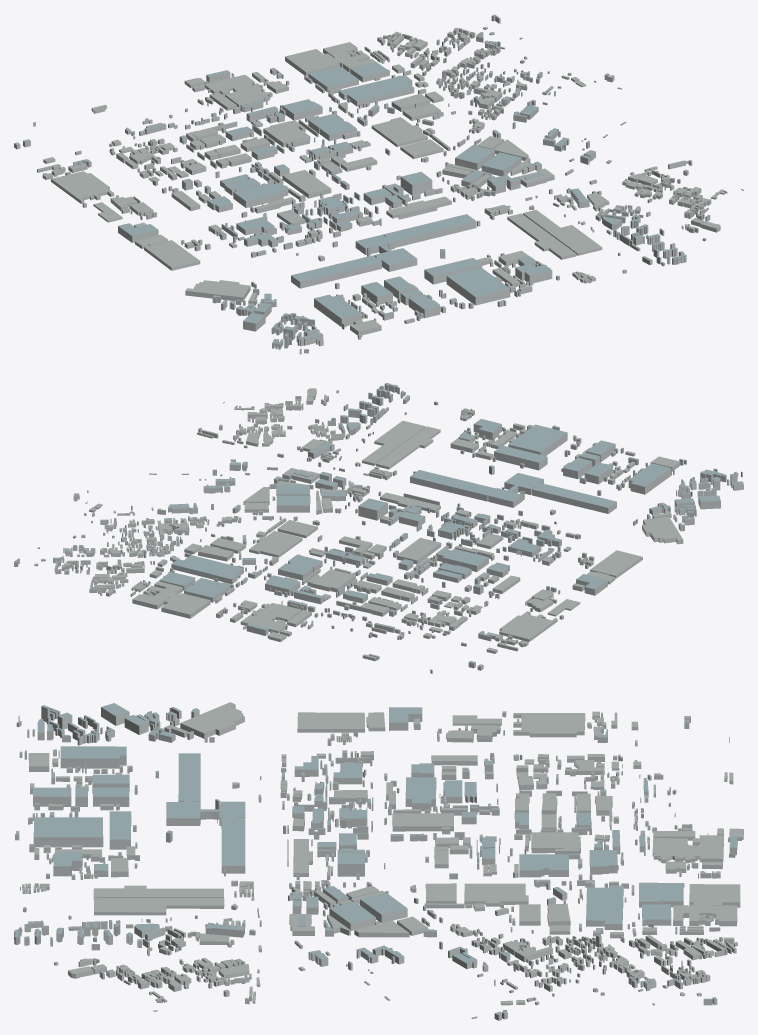
The model's file is far.glb.
3 views of the same model, one above another, from view 1: azimuth 30°, elevation 25°; view 2: azimuth 150°, elevation 25°; view 3: azimuth 270°, elevation 25° (orthographic). The views are drawn at different scales.
Size of the model in its own units: 2147 by 45.24 by 2114.
